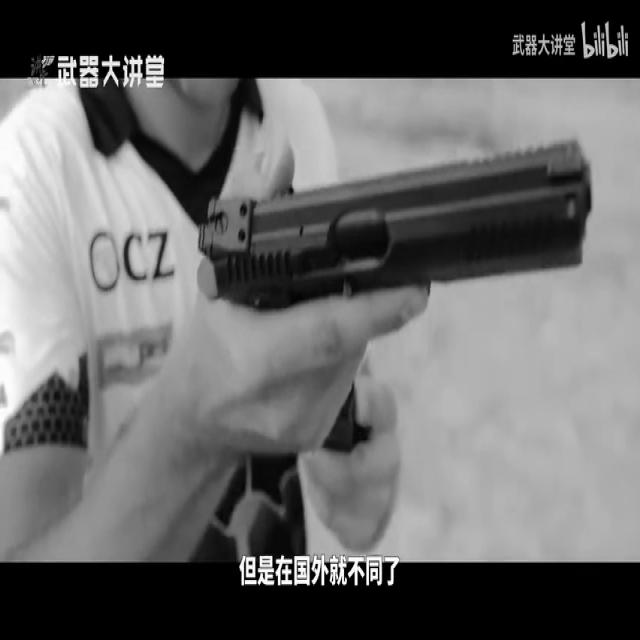Hand-Gun: (188, 120, 602, 327)
